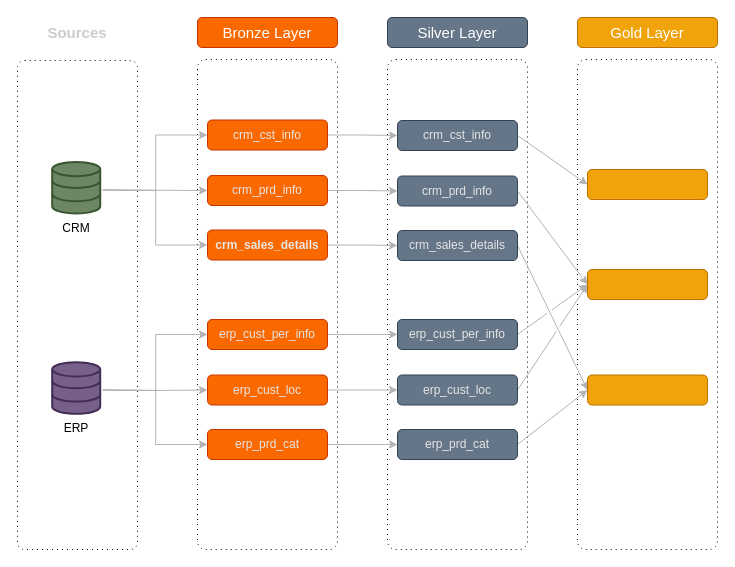
This 735x567 diagram has some shape labels left out. Here are the shapes that lost their labels. From the top down, the centre of each, then its label:
At point (647, 184): "fact_sales".
At point (647, 284): "dim_customers".
At point (647, 389): "dim_products".
